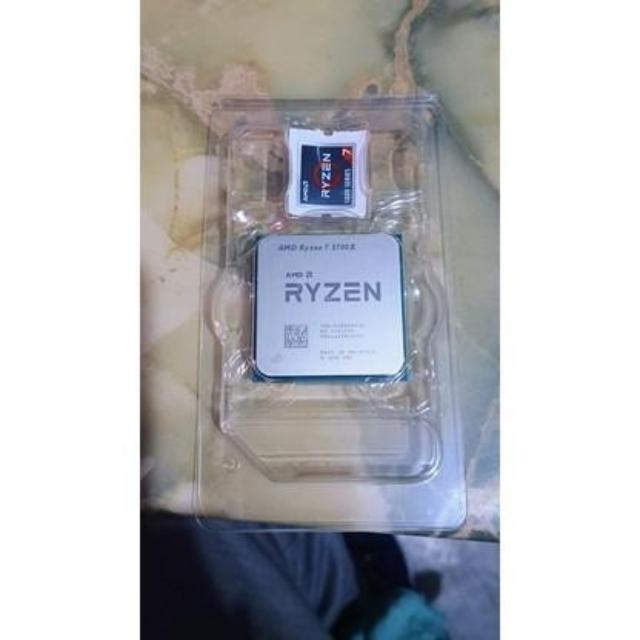CPU: (256, 233, 404, 378)
